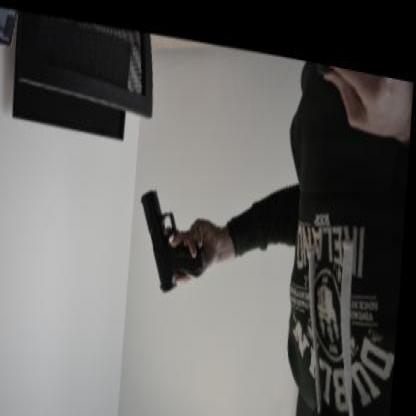pistol: (138, 179, 216, 290)
